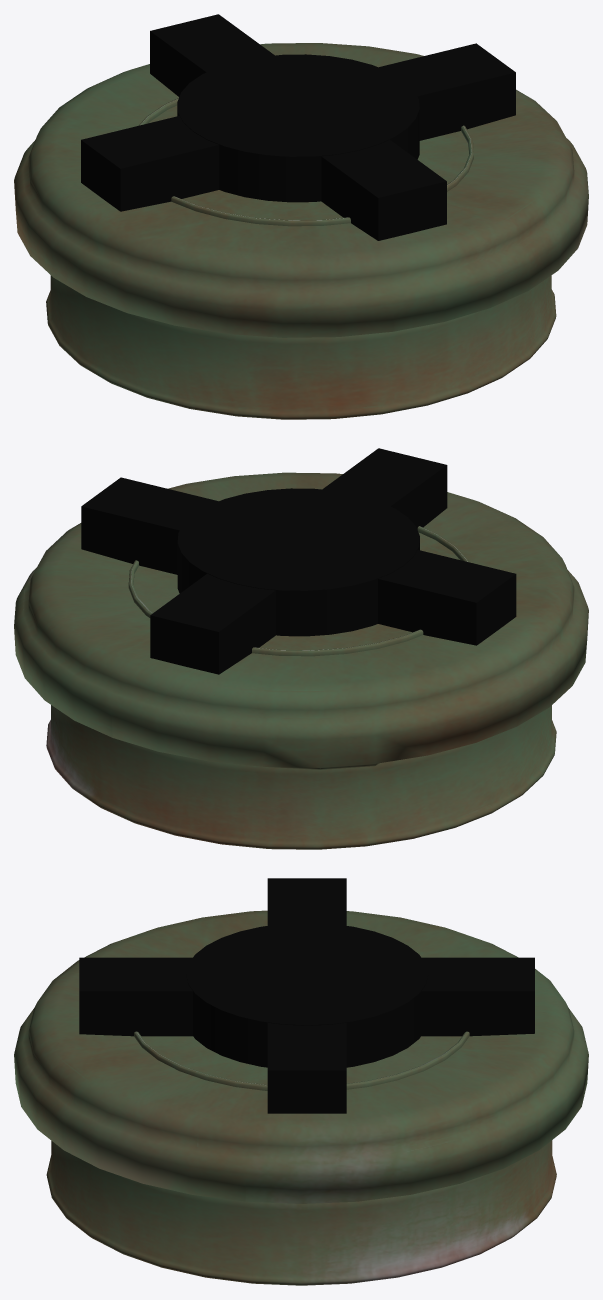
File: pmn2.glb
3 views of the same model, one above another, from view 1: azimuth 30°, elevation 25°; view 2: azimuth 150°, elevation 25°; view 3: azimuth 270°, elevation 25° (orthographic).
Parts seen in each view (by area): view 1: Circle_3, Cube; view 2: Circle_3, Cube; view 3: Circle_3, Cube.
Boxes of the visible parts, <box> form: Circle_3: <box>14,43,588,419</box>; Cube: <box>81,14,515,240</box>; Circle_3: <box>14,472,588,849</box>; Cube: <box>81,448,516,674</box>; Circle_3: <box>14,910,588,1285</box>; Cube: <box>79,878,534,1113</box>.
Bounding box in the file's own units: 7.01 × 2.78 × 7.01.
Materials: 2 (1 with a texture image).
